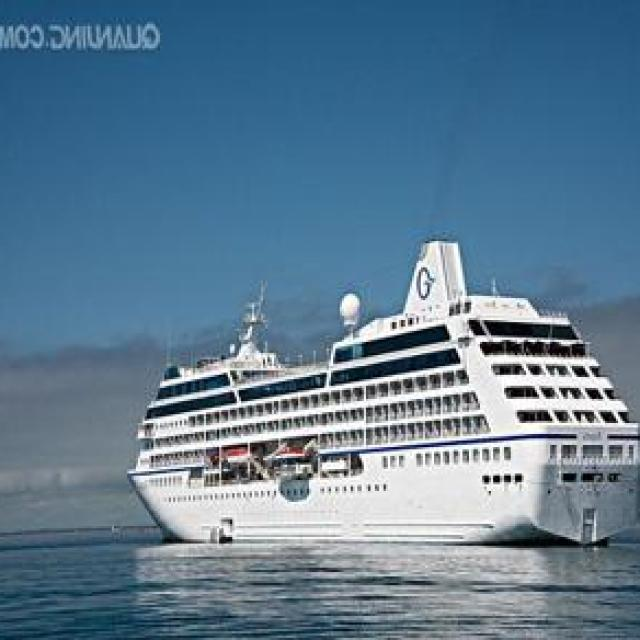passenger ship: (127, 230, 640, 539)
